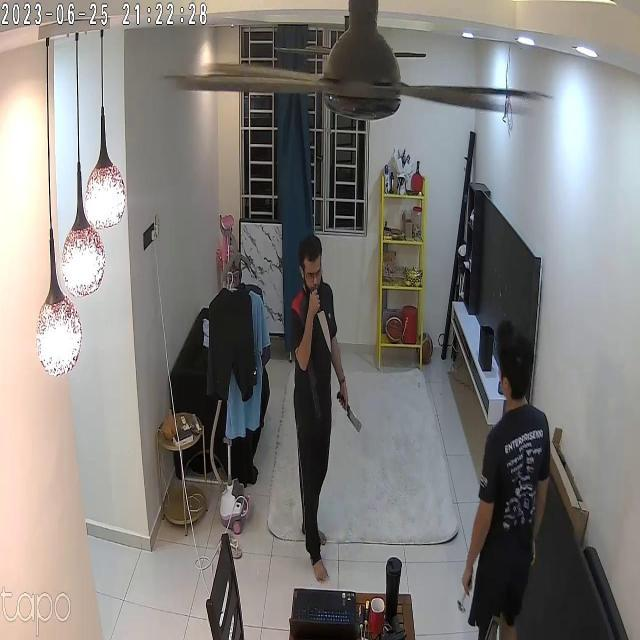Knife: (332, 384, 368, 439), (310, 294, 338, 358)
